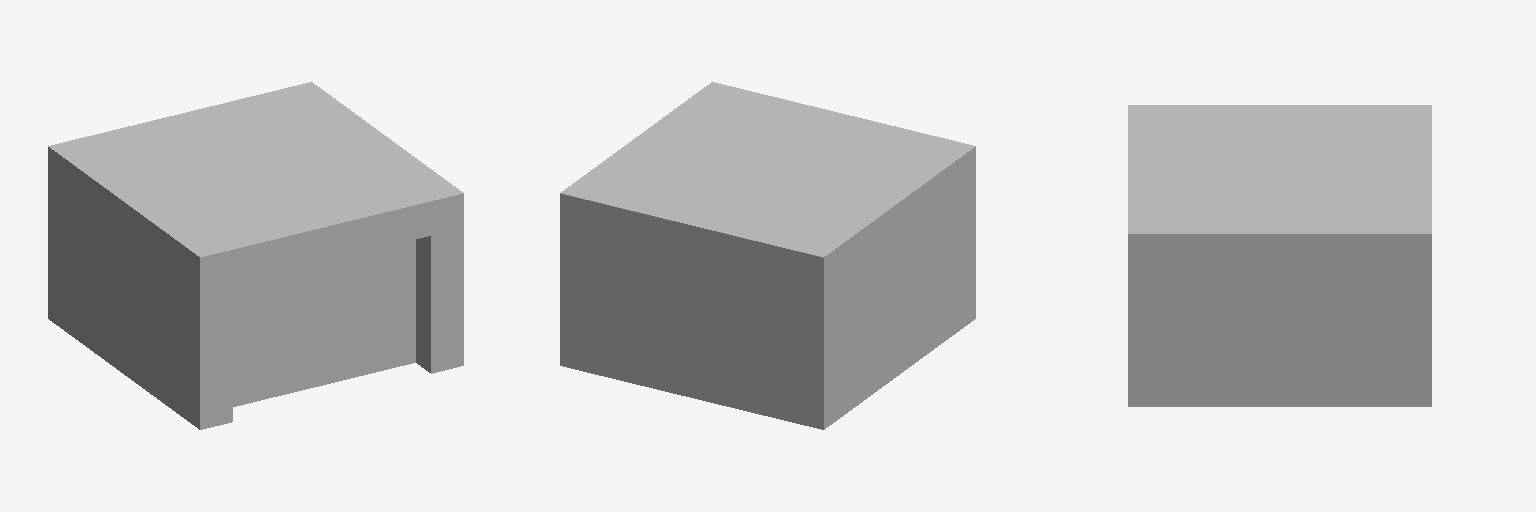
The model's file is building-window-large.obj.
The picture shows the model from 3 angles: view 1: azimuth 30°, elevation 25°; view 2: azimuth 150°, elevation 25°; view 3: azimuth 270°, elevation 25°; orthographic projection.
Visible parts, largest first — view 1: building-window-large; view 2: building-window-large; view 3: building-window-large.
Part boxes in pixels (x1,y1,x2,y2): building-window-large: (48, 82, 463, 429); building-window-large: (560, 82, 975, 429); building-window-large: (1128, 105, 1431, 406).
Bounding box in the file's own units: 1 × 0.625 × 1.